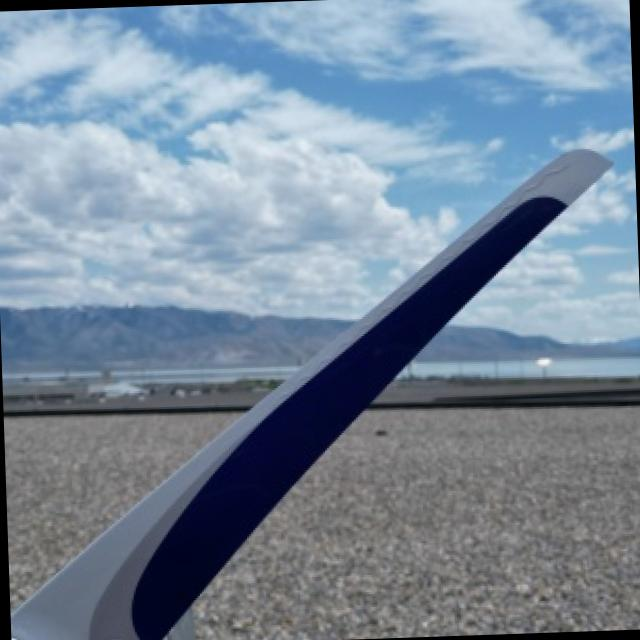healthy: (12, 149, 611, 640)
